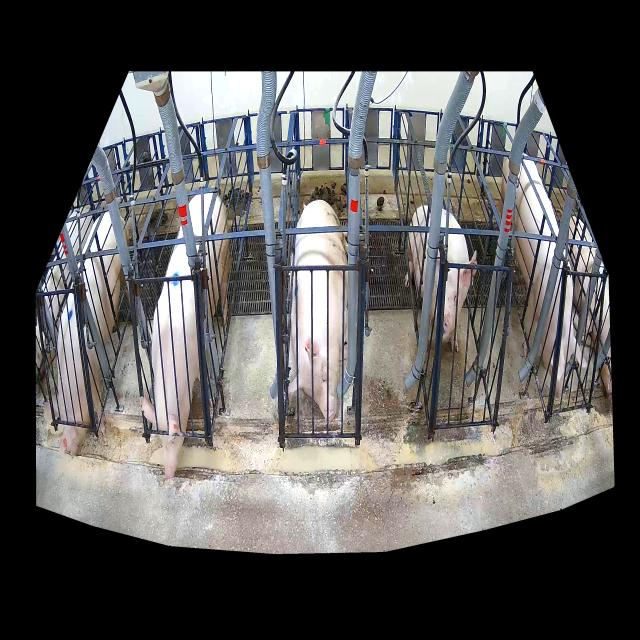pig: (138, 193, 230, 477), (44, 212, 130, 456), (501, 157, 587, 398), (288, 199, 348, 427), (403, 205, 477, 354)
